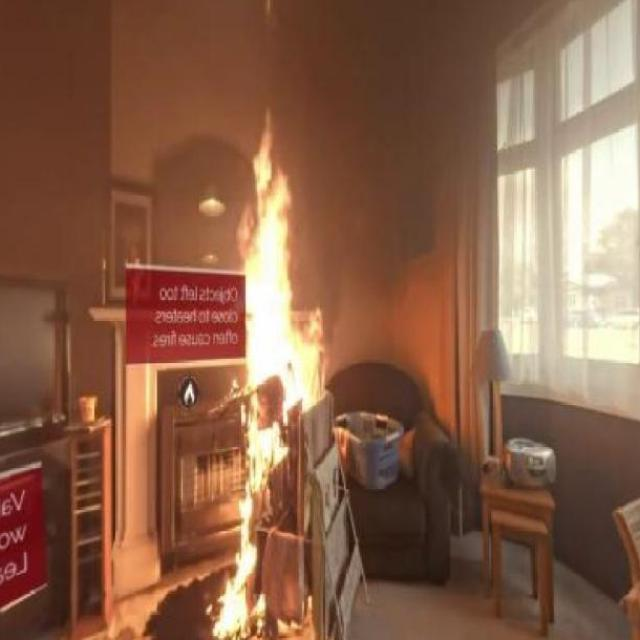smoke: (237, 108, 314, 444), (208, 489, 268, 640)
